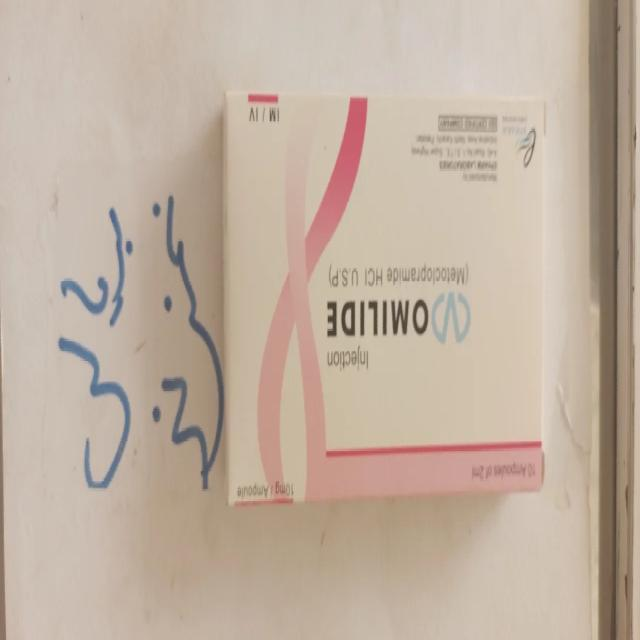drug-name: (318, 290, 473, 345)
